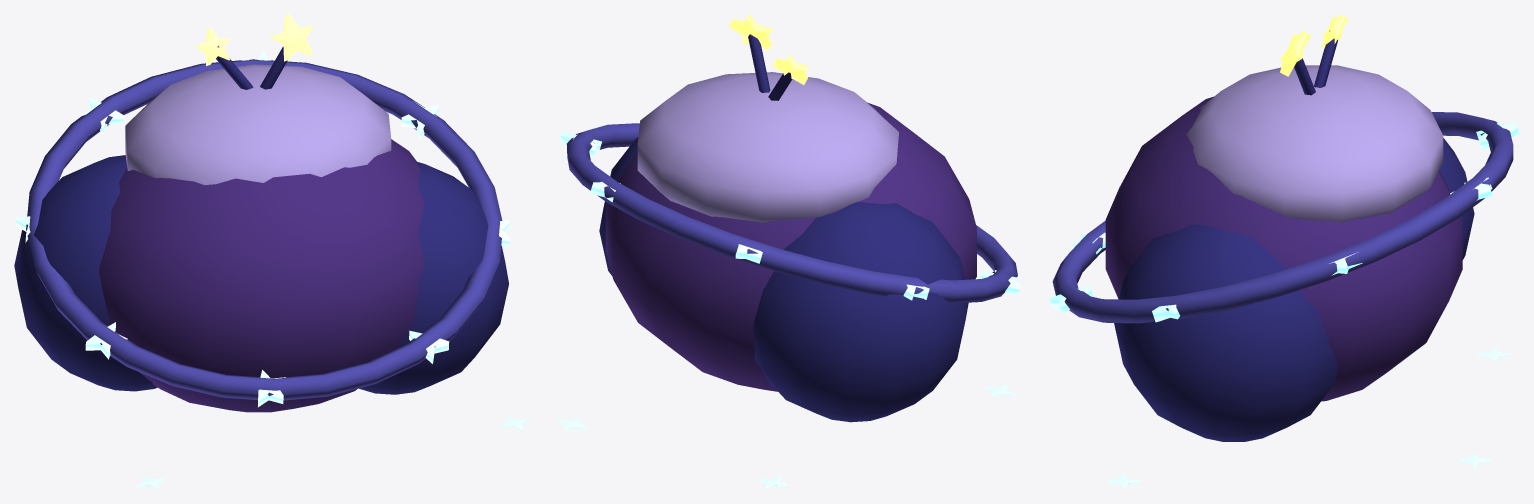
The model's file is space_shrub.glb.
The picture shows the model from 3 angles, left to right: view 1: azimuth 30°, elevation 25°; view 2: azimuth 150°, elevation 25°; view 3: azimuth 270°, elevation 25°; orthographic projection. The views are drawn at different scales.
Visible parts, largest first — view 1: Shrub; view 2: Shrub; view 3: Shrub.
Boxes of the visible parts, x1=… form: Shrub: x1=14, y1=14, x2=529, y2=489; Shrub: x1=558, y1=14, x2=1020, y2=489; Shrub: x1=1049, y1=14, x2=1519, y2=489.
Bounding box in the file's own units: 0.9608 × 0.8463 × 0.9393.
